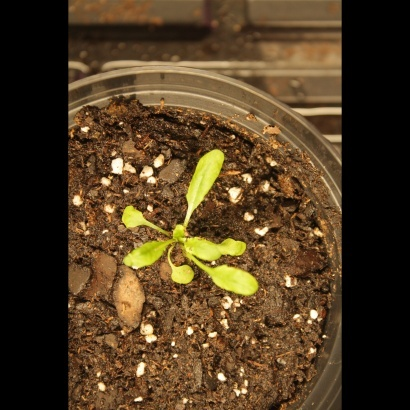leaf: (180, 149, 227, 215), (184, 231, 255, 267), (207, 261, 261, 306), (114, 238, 167, 272), (113, 199, 155, 231), (166, 259, 201, 290), (166, 221, 194, 245)
